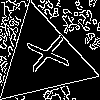X: (18, 33, 69, 77)
